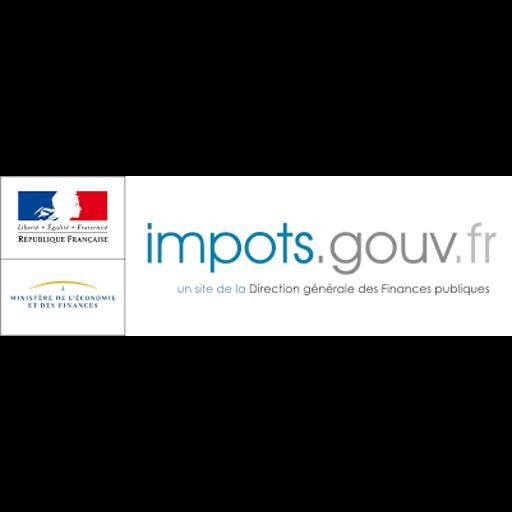DGI -French Tax Authority-: (0, 176, 512, 336)
